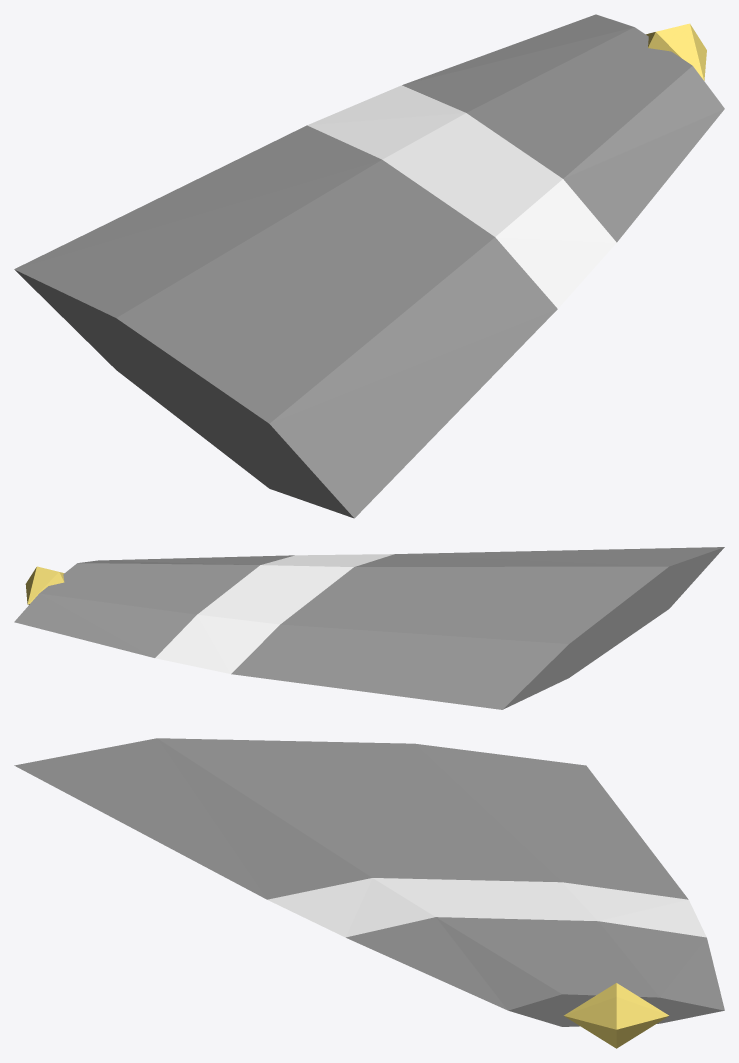
The model's file is wing_swept.obj.
3 views of the same model, one above another, from view 1: azimuth 30°, elevation 25°; view 2: azimuth 150°, elevation 25°; view 3: azimuth 270°, elevation 25° (orthographic). The views are drawn at different scales.
Size of the model in its own units: 1.14 by 0.1476 by 1.18.
